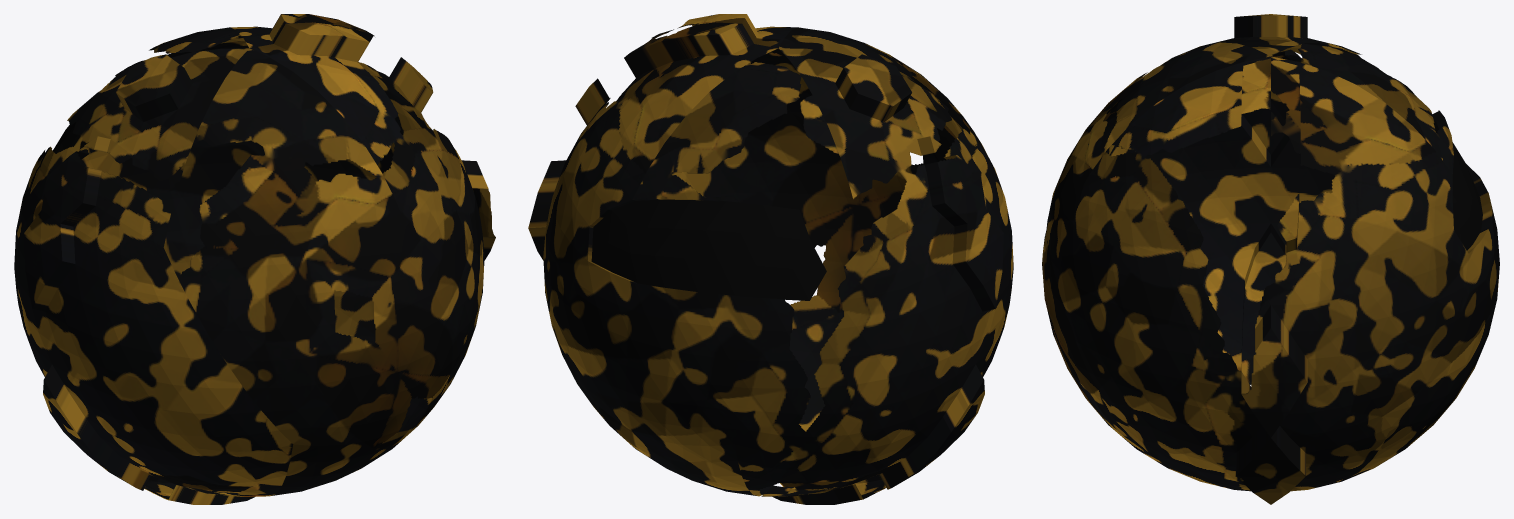
The model's file is sillyblackandyellow.fbx.
The picture shows the model from 3 angles, left to right: view 1: azimuth 30°, elevation 25°; view 2: azimuth 150°, elevation 25°; view 3: azimuth 270°, elevation 25°; orthographic projection. The views are drawn at different scales.
Visible parts, largest first — view 1: Icosphere; view 2: Icosphere; view 3: Icosphere.
Part boxes in pixels (x1,y1,x2,y2): Icosphere: [14, 14, 495, 504]; Icosphere: [528, 14, 1013, 504]; Icosphere: [1042, 14, 1499, 504].
Size of the model in its own units: 1267 by 1225 by 1146.
2 materials, 2 textured.
